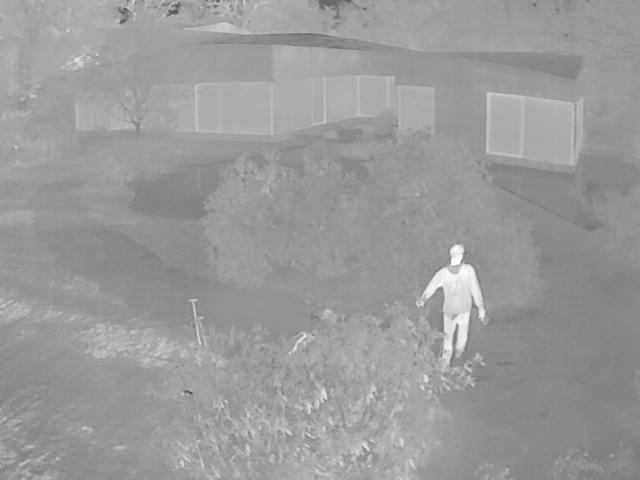person: (416, 243, 490, 375)
